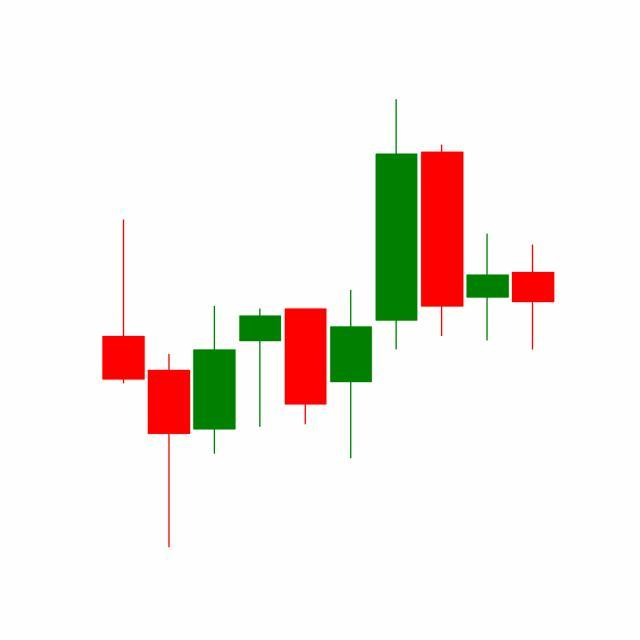Hikkake Pattern: (283, 100, 512, 465)
